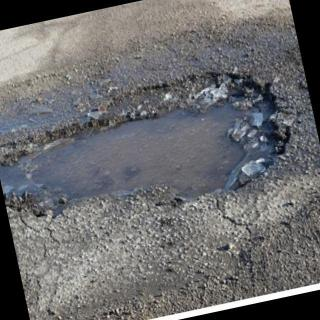pothole: (0, 75, 292, 218)
